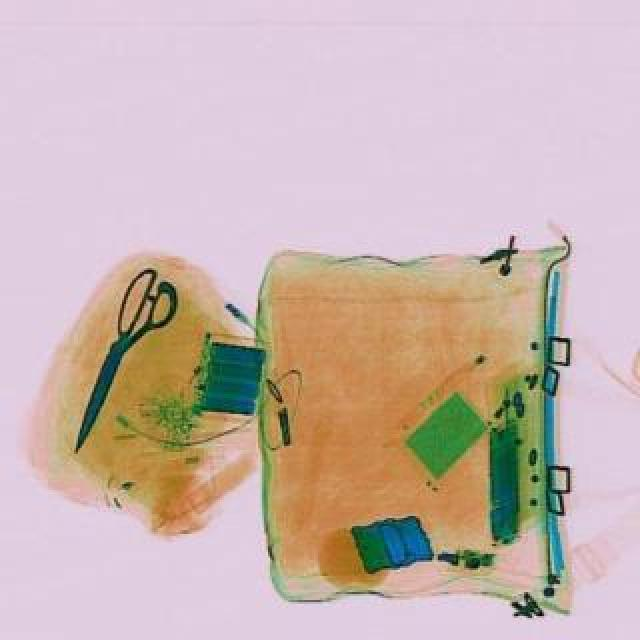pliers: (48, 262, 188, 464)
